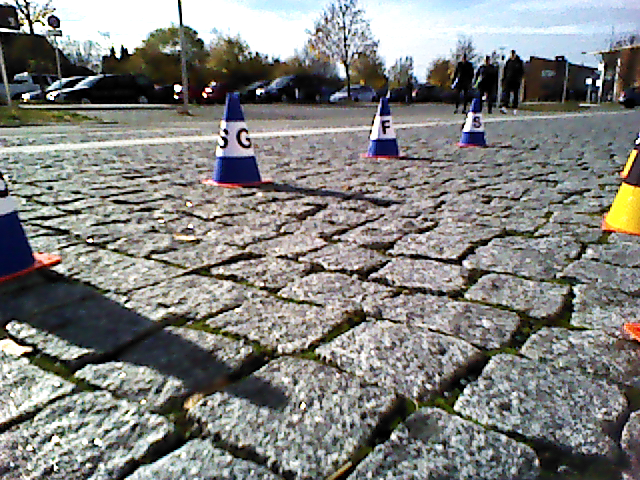bluecone: (213, 94, 257, 183), (369, 99, 400, 156), (460, 98, 486, 144)
